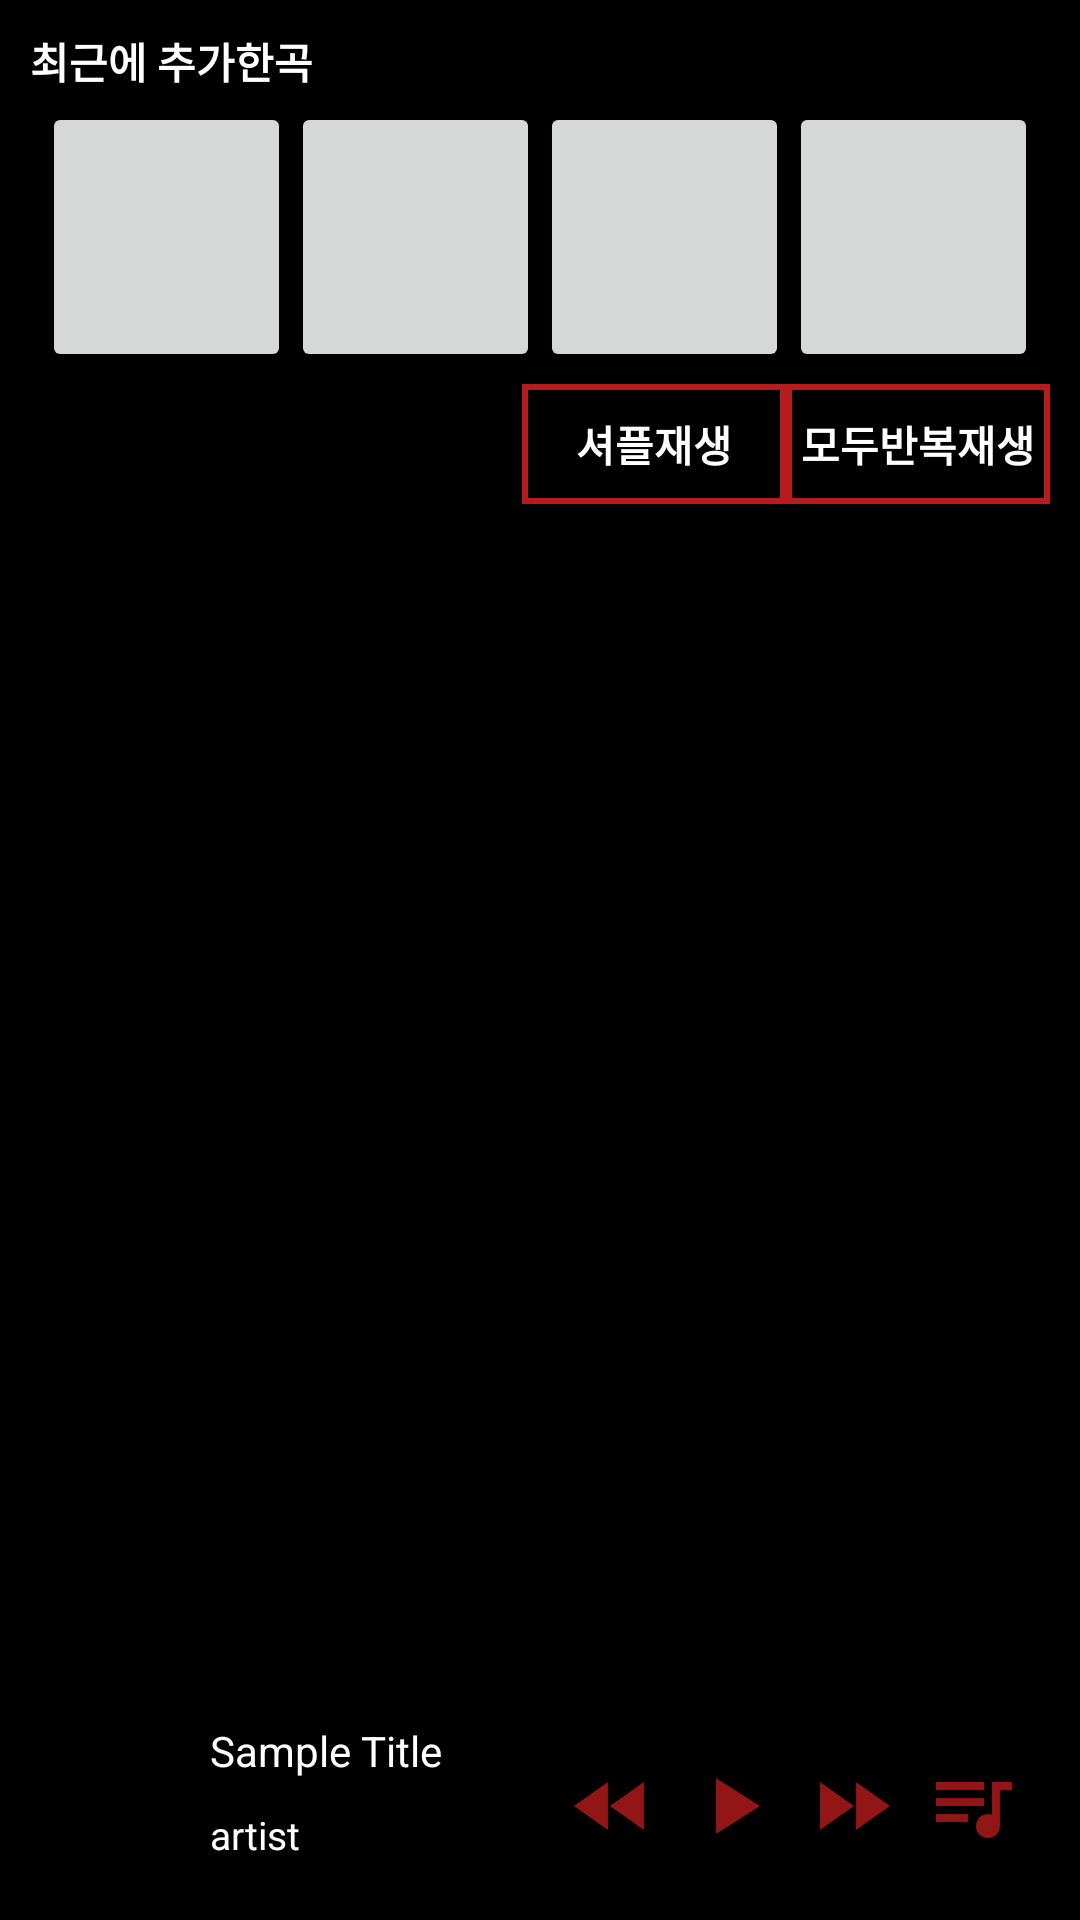

Point at icon controls on the screen. Image size 1080*1920, points as (x=x, y=y).
back: (x=609, y=1806)
next: (x=855, y=1806)
play: (x=738, y=1806)
playlist: (x=974, y=1810)
